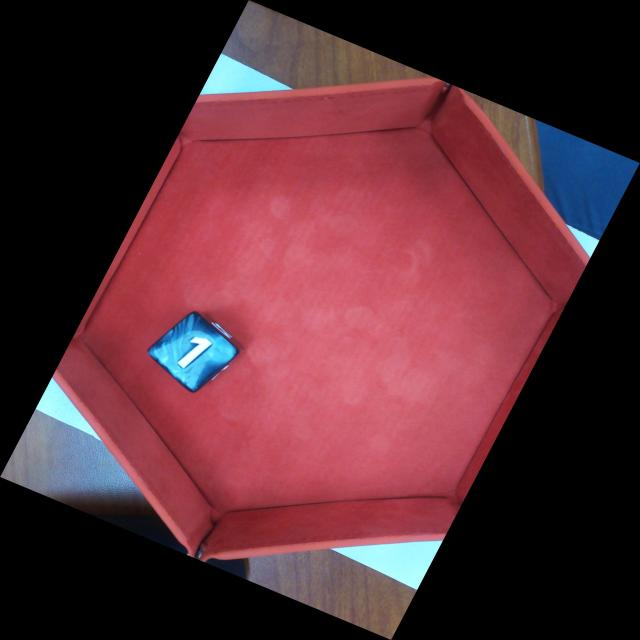dice: (145, 310, 241, 395)
